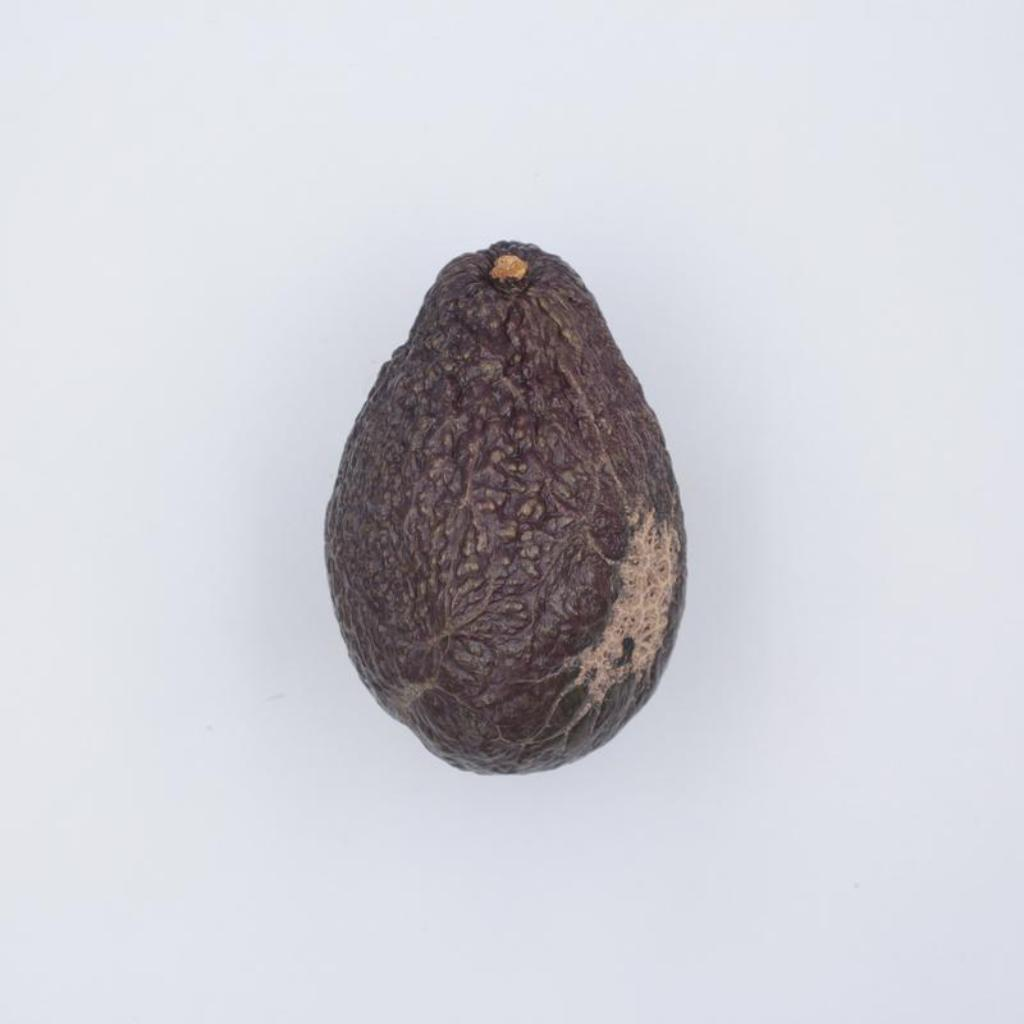rona: (326, 241, 686, 773)
